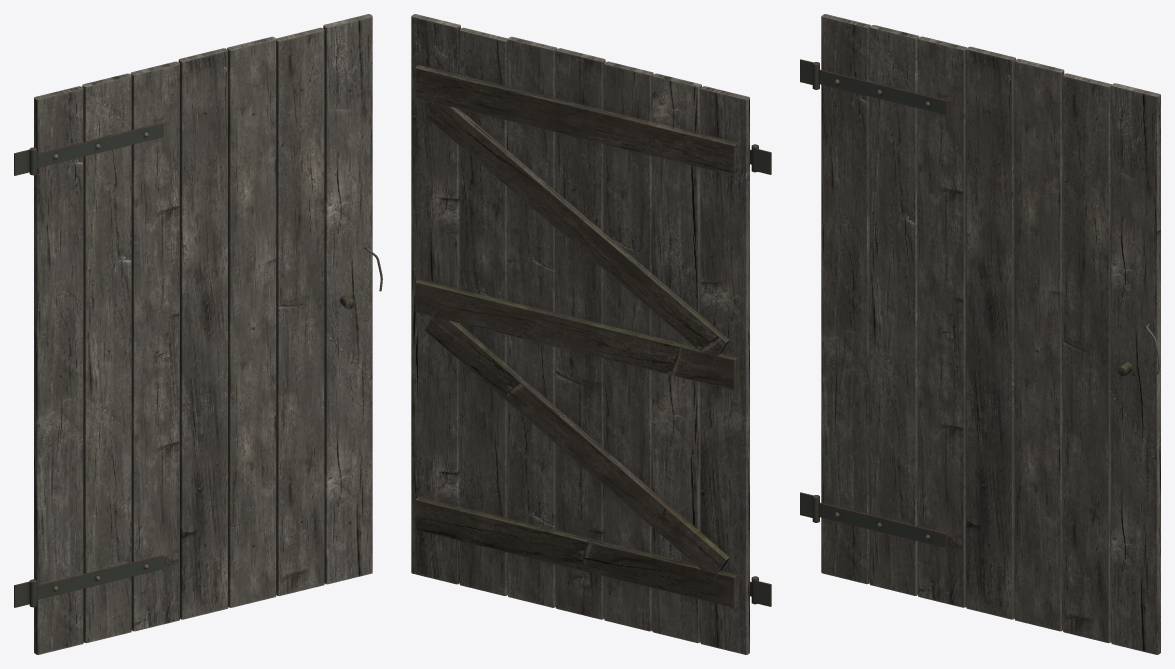
Rendered from door_privy.glb.
3 renders of one model, left to right at view 1: azimuth 30°, elevation 25°; view 2: azimuth 150°, elevation 25°; view 3: azimuth 330°, elevation 25°, orthographic.
Visible parts, largest first — view 1: door_privy; view 2: door_privy; view 3: door_privy.
Boxes of the visible parts, left/top/right/bottom form: door_privy: left=14, top=14, right=382, bottom=654; door_privy: left=411, top=14, right=771, bottom=654; door_privy: left=800, top=14, right=1160, bottom=654.
Bounding box in the file's own units: 1.21 × 1.77 × 0.083.
1 material, 1 textured.
